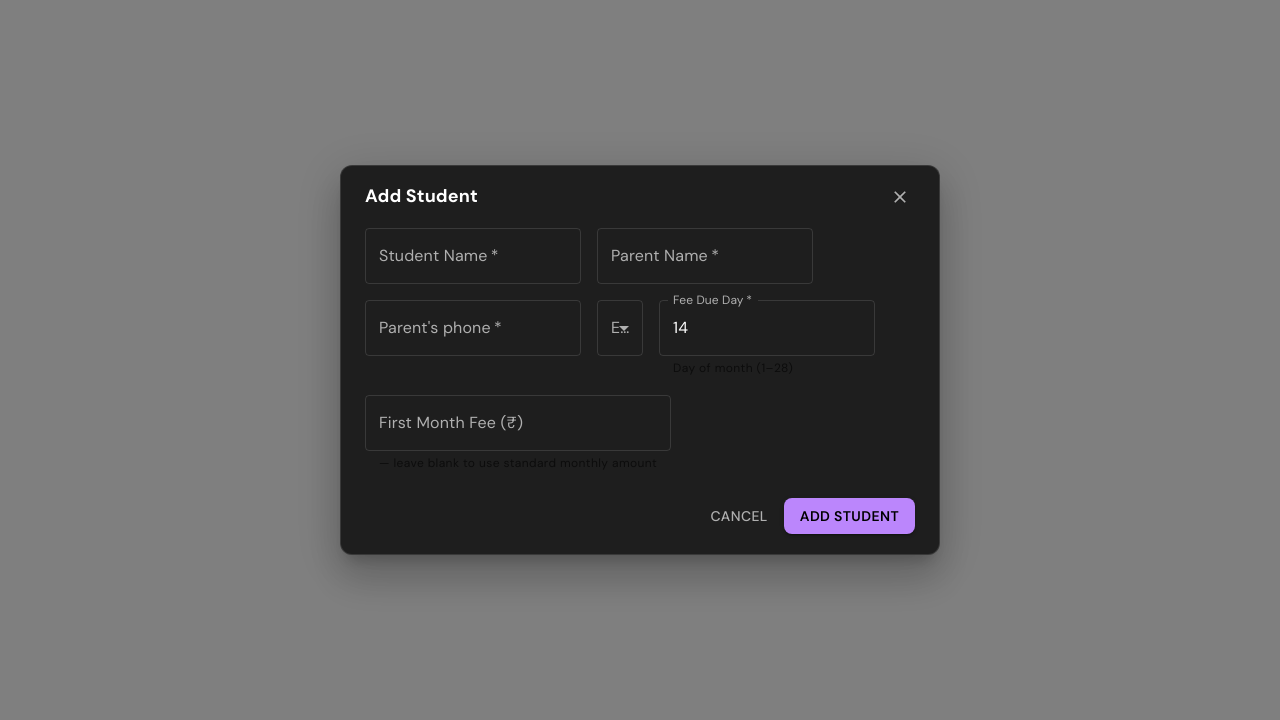
Test case: AddStudentModal › shows validation error for invalid phone number
In the field labelled "Student Name *": (473, 256) [365, 228, 581, 284], type "Rahul"
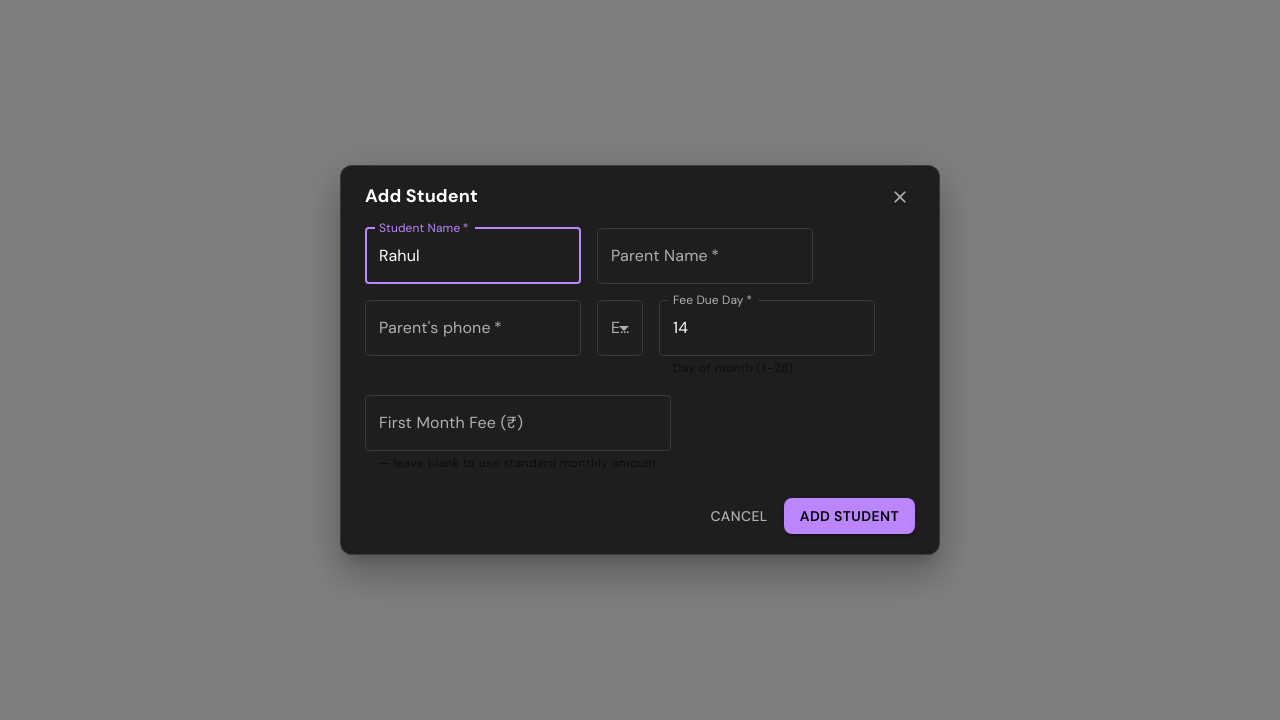
In the field labelled "Parent Name *": (705, 256) [597, 228, 813, 284], type "Mr Sharma"
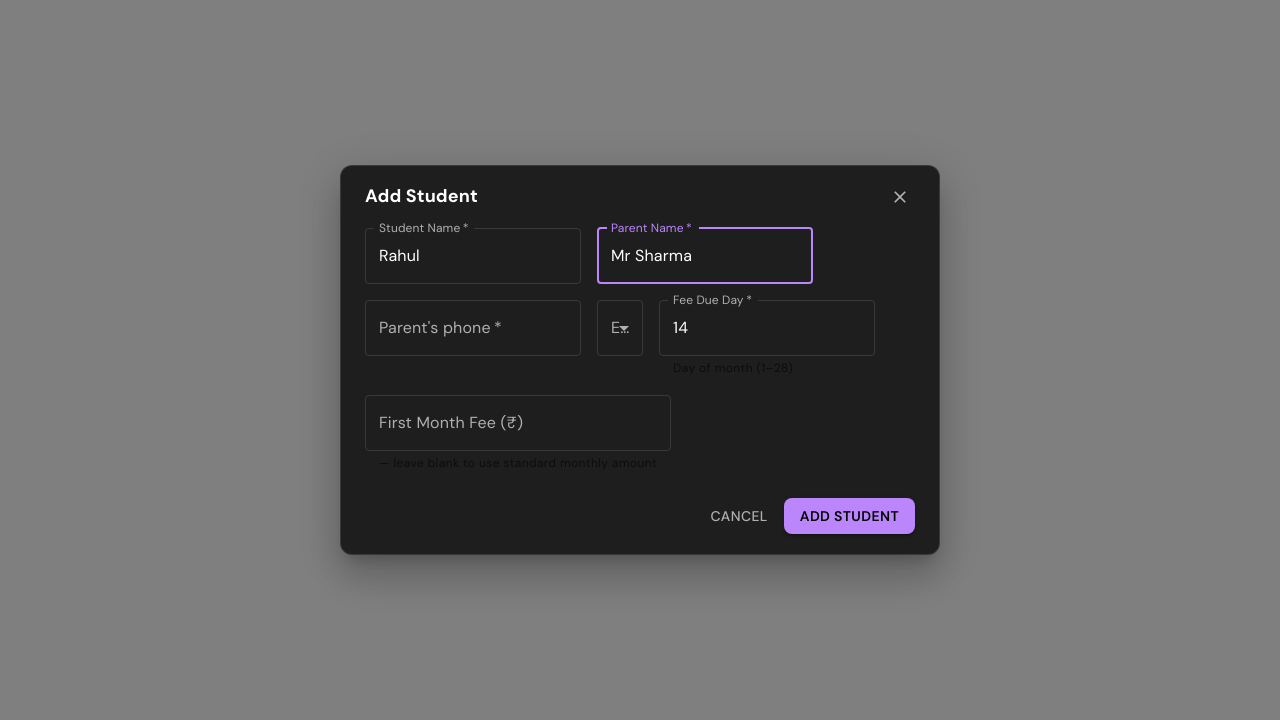
In the field labelled "Parent's phone *": (473, 328) [365, 300, 581, 356], type "123"
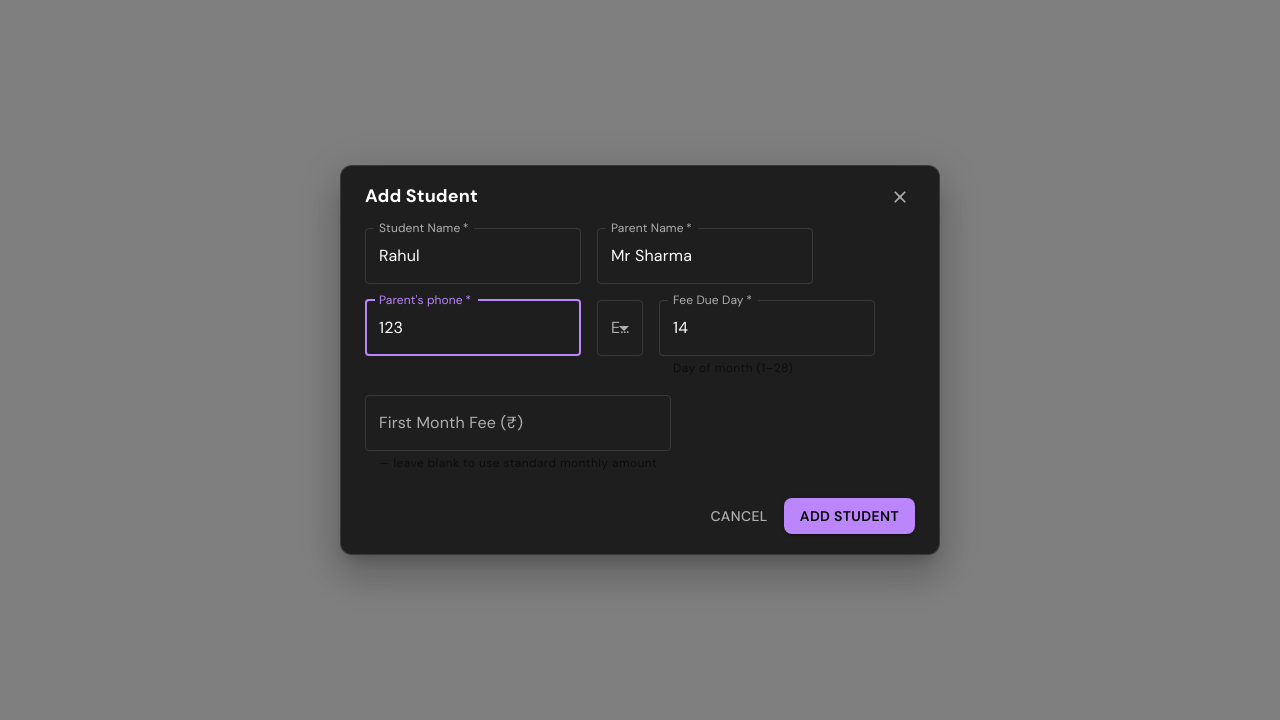
Click the button "Add Student": (849, 516) [784, 498, 915, 534]
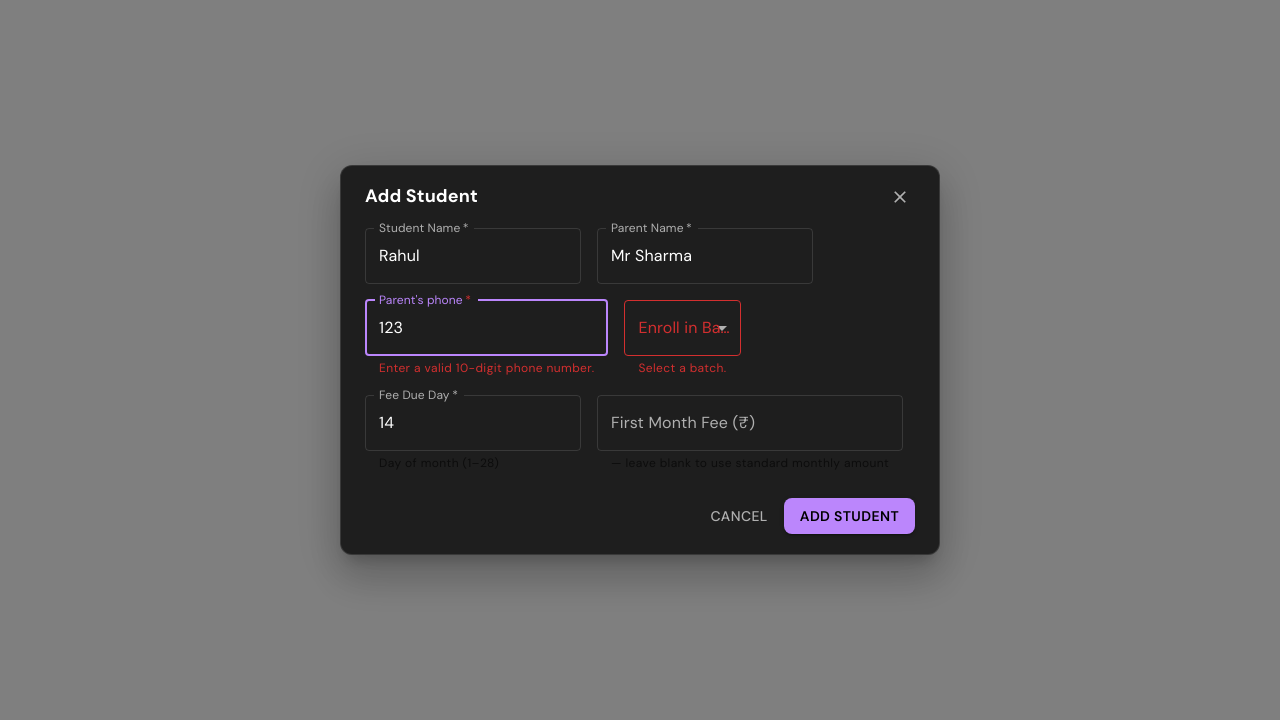
Expected: the text "Enter a valid 10-digit phone number." is shown, [379, 359, 594, 379]
